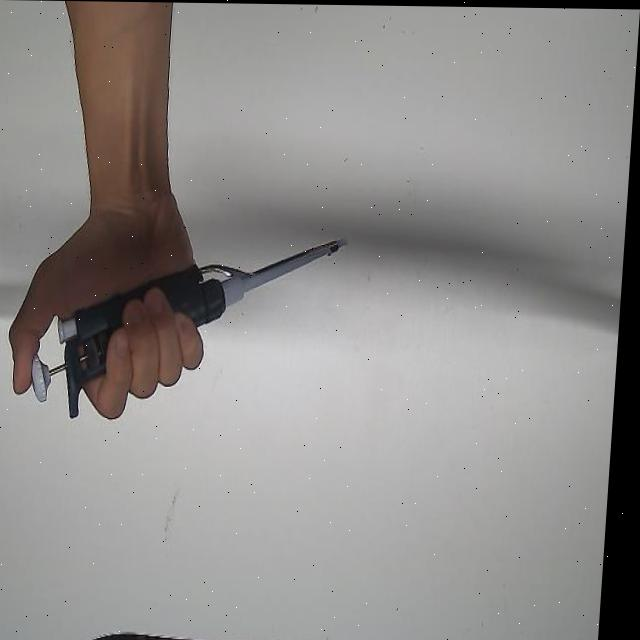Single Channel Pipettor: (33, 227, 356, 423)
